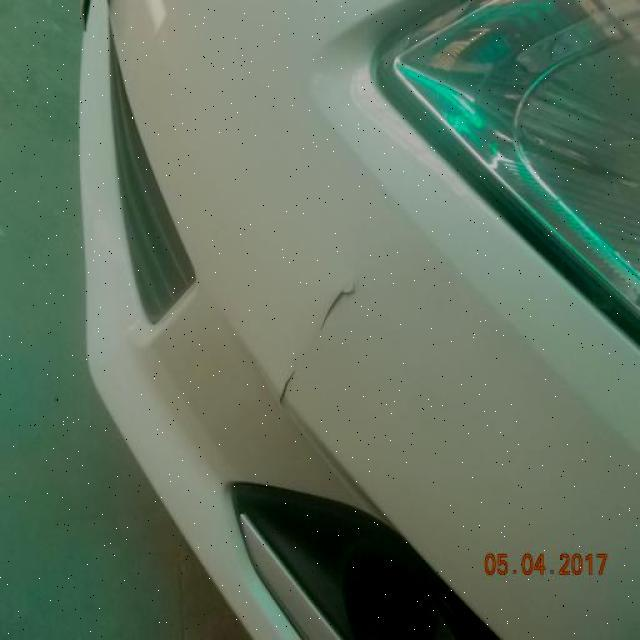car damage: (318, 276, 355, 333), (275, 365, 303, 412)
